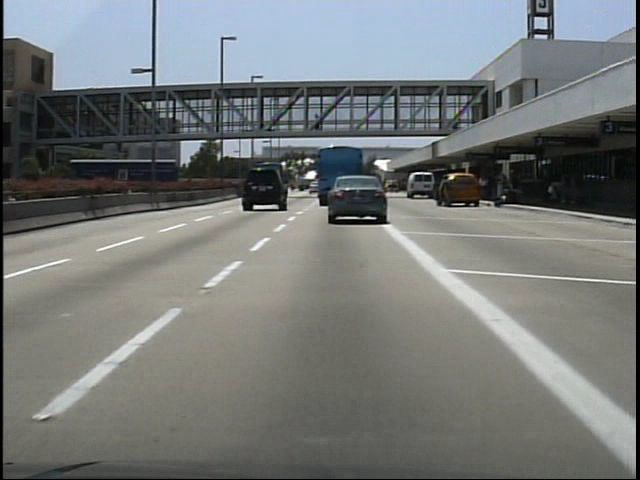person: (441, 177, 459, 214), (253, 110, 269, 133), (312, 113, 326, 138)
